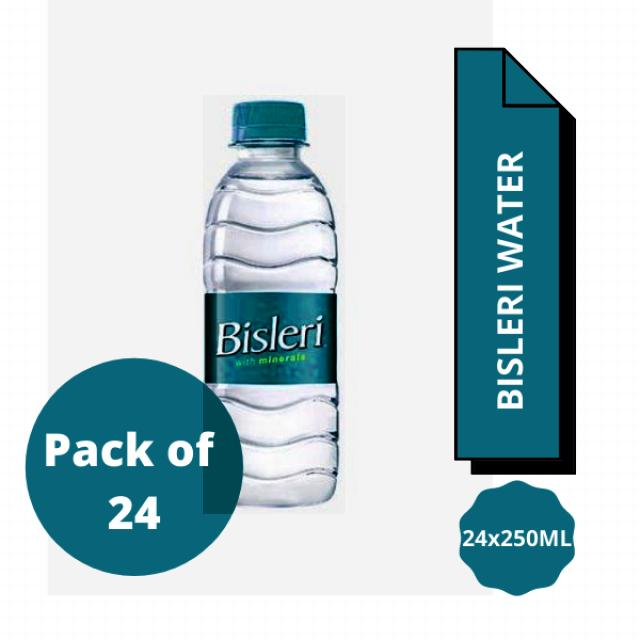full-bottle: (203, 95, 345, 514)
